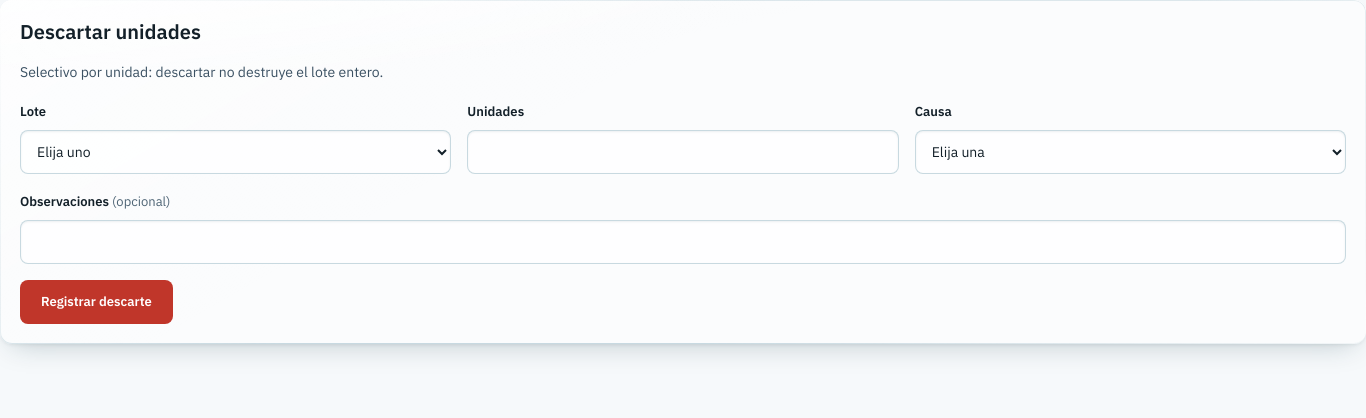
Test: DescarteDeLote — la causa decide qué se pide › «otro» cambia el campo por uno que exige explicar, con su contador
This screenshot has width=1366, height=418.
Select "Otro" in the dropdown labelled "Causa": (1130, 152) [915,130,1346,174]
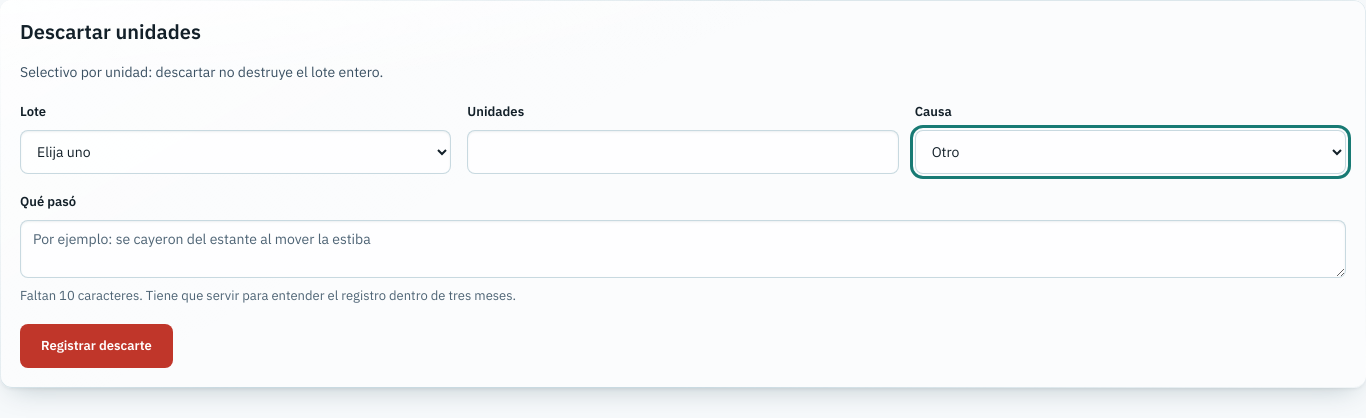
expect the text box labelled "Qué pasó" is shown: met, box [20,220,1346,278]
expect the text "Faltan 10 caracteres" is shown: met, box [20,287,516,304]
expect the text "(opcional)" is gone: met
